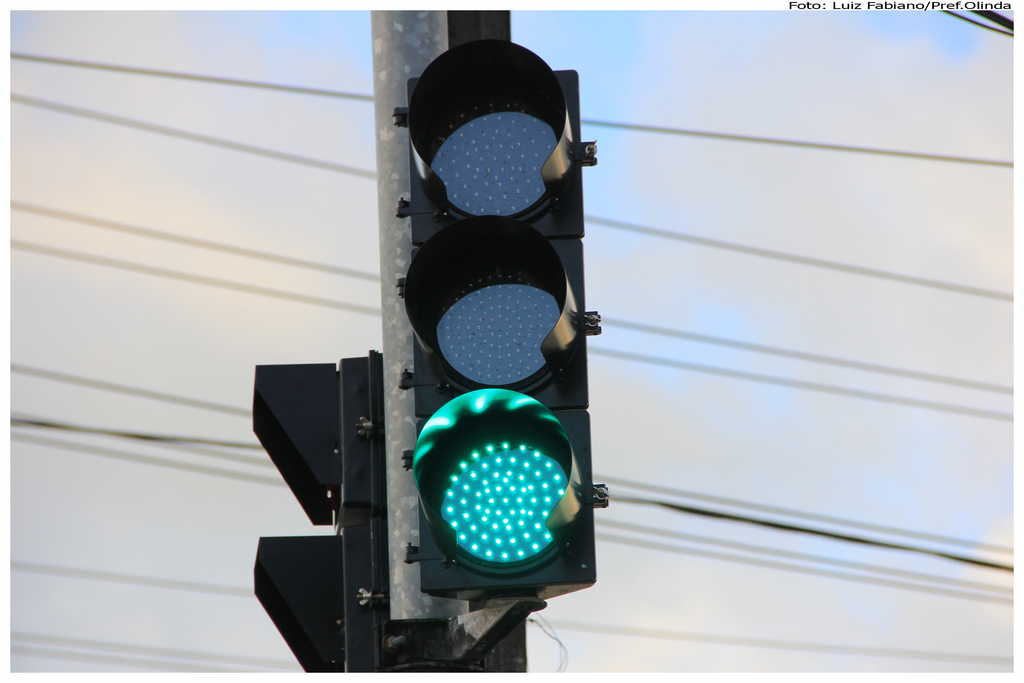green_light: (408, 73, 585, 585)
